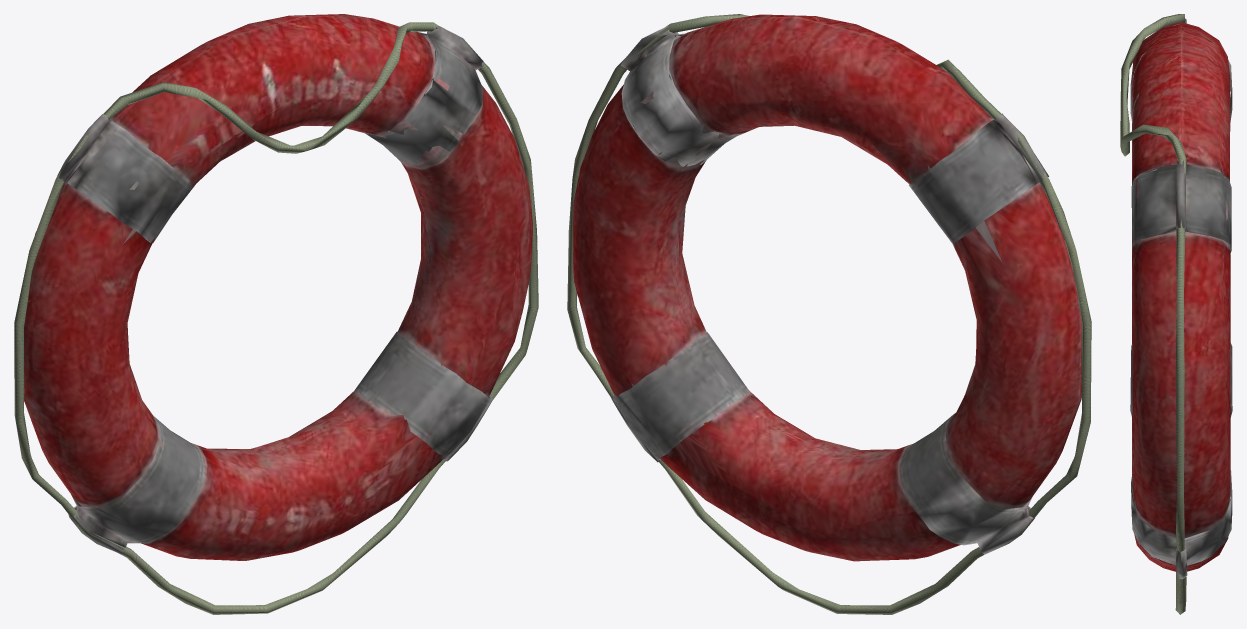
File: lifebuoy.glb
3 renders of one model, left to right at view 1: azimuth 30°, elevation 25°; view 2: azimuth 150°, elevation 25°; view 3: azimuth 270°, elevation 25°, orthographic. The views are drawn at different scales.
Parts seen in each view (by area): view 1: dock; view 2: dock; view 3: dock.
Part boxes in pixels (x1,y1,x2,y2): dock: (14, 14, 538, 614); dock: (567, 14, 1091, 614); dock: (1120, 14, 1232, 614).
Bounding box in the file's own units: 0.7817 × 0.8413 × 0.1545.
1 material, 1 textured.
